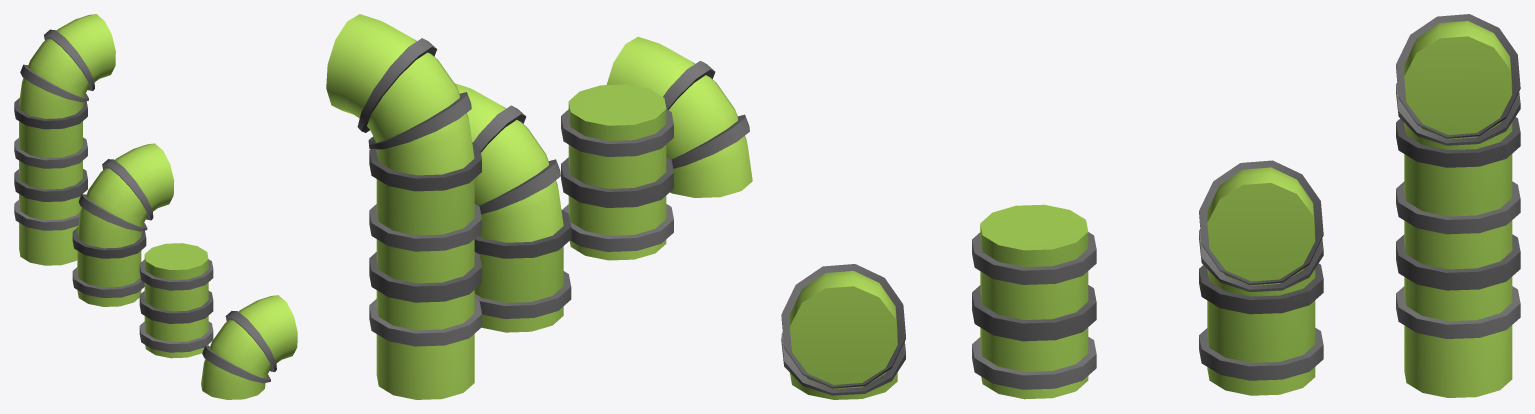
The model's file is Tuberias_Verdes.fbx.
3 renders of one model, left to right at view 1: azimuth 30°, elevation 25°; view 2: azimuth 150°, elevation 25°; view 3: azimuth 270°, elevation 25°, orthographic. The views are drawn at different scales.
Parts seen in each view (by area): view 1: TuberiaVerde1, TuberiaVerde4, TuberiaVerde3, TuberiaVerde2; view 2: TuberiaVerde1, TuberiaVerde4, TuberiaVerde3, TuberiaVerde2; view 3: TuberiaVerde1, TuberiaVerde4, TuberiaVerde3, TuberiaVerde2.
Boxes of the visible parts, <box> form: TuberiaVerde1: <box>14,14,115,265</box>; TuberiaVerde4: <box>72,143,174,306</box>; TuberiaVerde3: <box>139,243,213,358</box>; TuberiaVerde2: <box>201,295,297,399</box>; TuberiaVerde1: <box>326,14,481,399</box>; TuberiaVerde4: <box>454,83,571,332</box>; TuberiaVerde3: <box>561,84,673,260</box>; TuberiaVerde2: <box>606,36,752,197</box>; TuberiaVerde1: <box>1396,14,1520,397</box>; TuberiaVerde4: <box>1199,160,1323,395</box>; TuberiaVerde3: <box>972,204,1096,399</box>; TuberiaVerde2: <box>781,264,905,399</box>.
Size of the model in its own units: 19.44 by 51.47 by 90.59.
